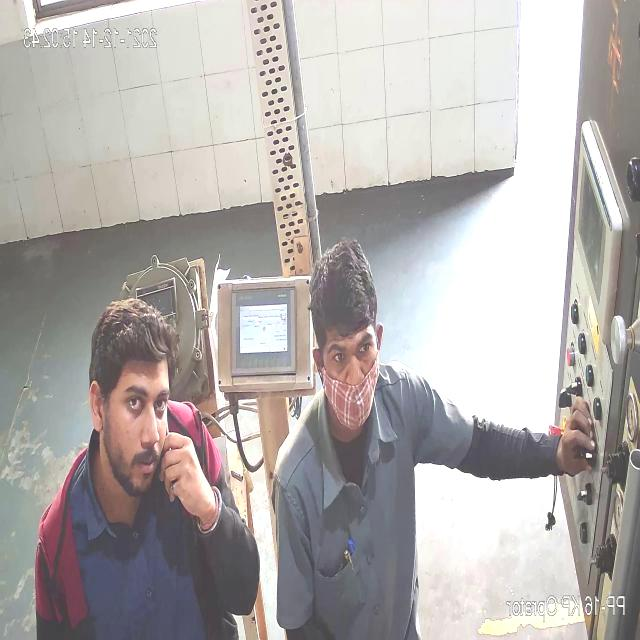face_mask: (316, 327, 384, 429)
face_nomask: (110, 384, 178, 481)
hand_noglove: (162, 427, 215, 509), (551, 397, 599, 475)
head_nohelmet: (301, 239, 389, 326), (97, 296, 179, 382)
person: (17, 284, 268, 640), (269, 239, 427, 640)
